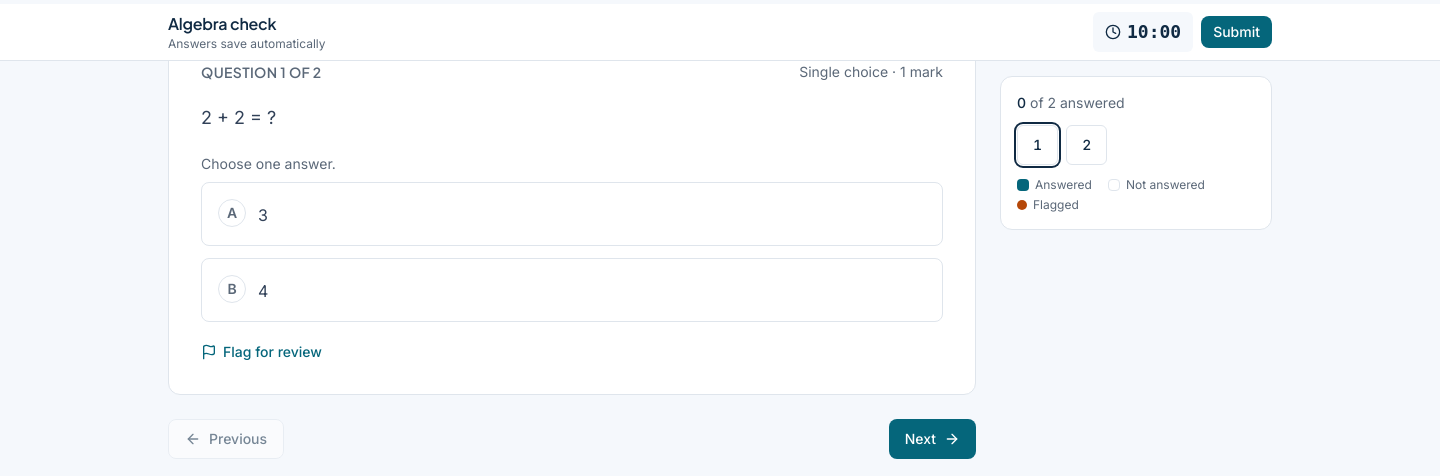
Test: ExamPlayer › keeps answers queued and says so when the network is down
The image size is (1440, 476).
Click the radio button named "Option A" at x=284, y=212, box x1=201 y1=182 x2=943 y2=246
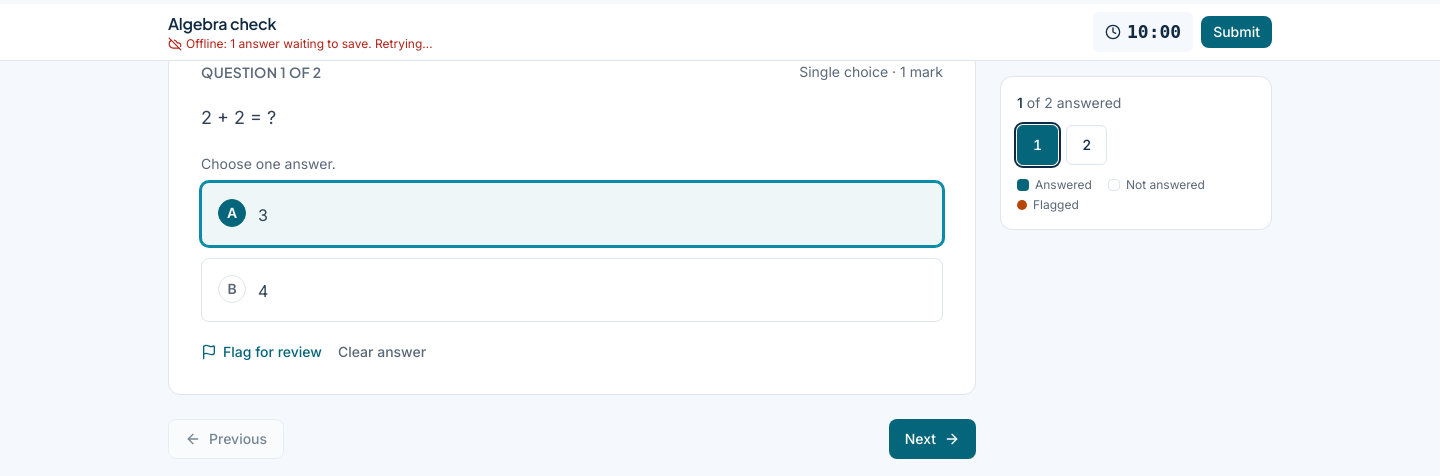
Check: the text "Offline: 1 answer waiting to save. Retrying…" is shown, box x1=186 y1=36 x2=433 y2=52
